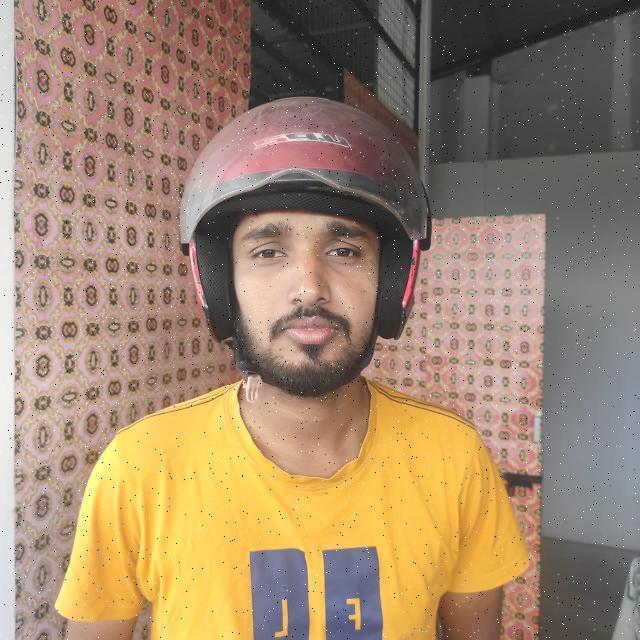helmet: (178, 96, 434, 404)
